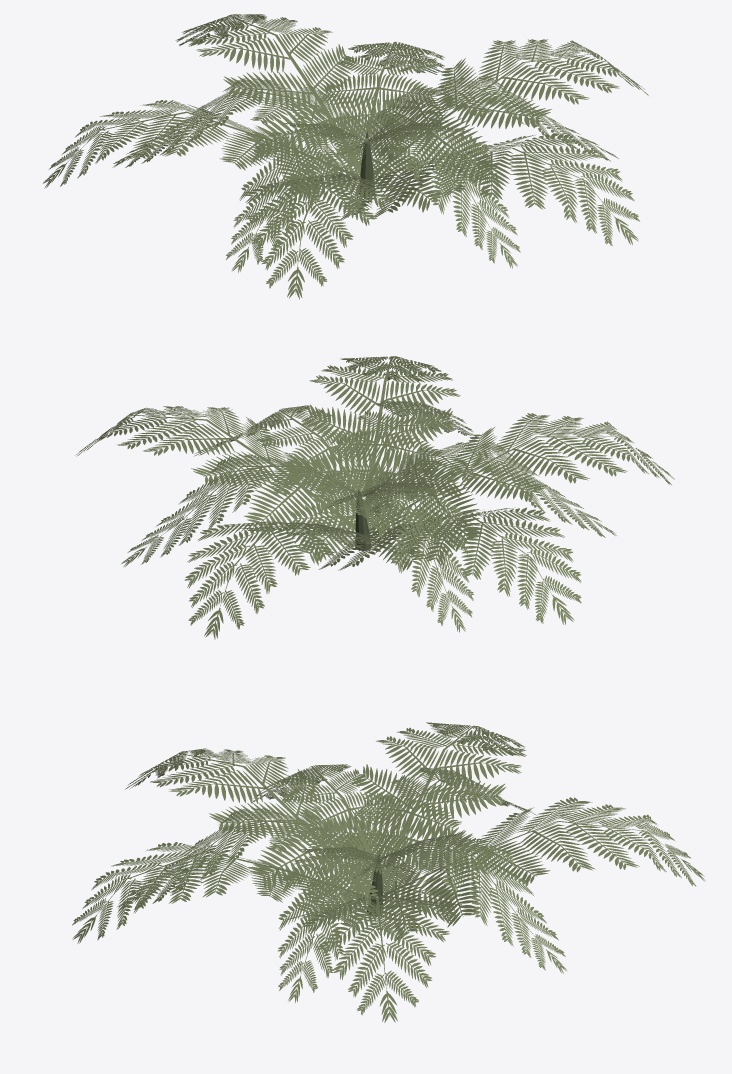
The model's file is Helecho.fbx.
3 views of the same model, one above another, from view 1: azimuth 30°, elevation 25°; view 2: azimuth 150°, elevation 25°; view 3: azimuth 270°, elevation 25° (orthographic).
Parts seen in each view (by area): view 1: Plane, Plane.001; view 2: Plane, Plane.001; view 3: Plane, Plane.001.
Boxes of the visible parts, x1,y1,x2,y2 form: Plane: (43,14,648,299); Plane.001: (112,41,619,272); Plane: (76,356,674,639); Plane.001: (121,401,616,632); Plane: (72,722,705,1022); Plane.001: (117,764,566,1002).
Bounding box in the file's own units: 573 × 105 × 572.
